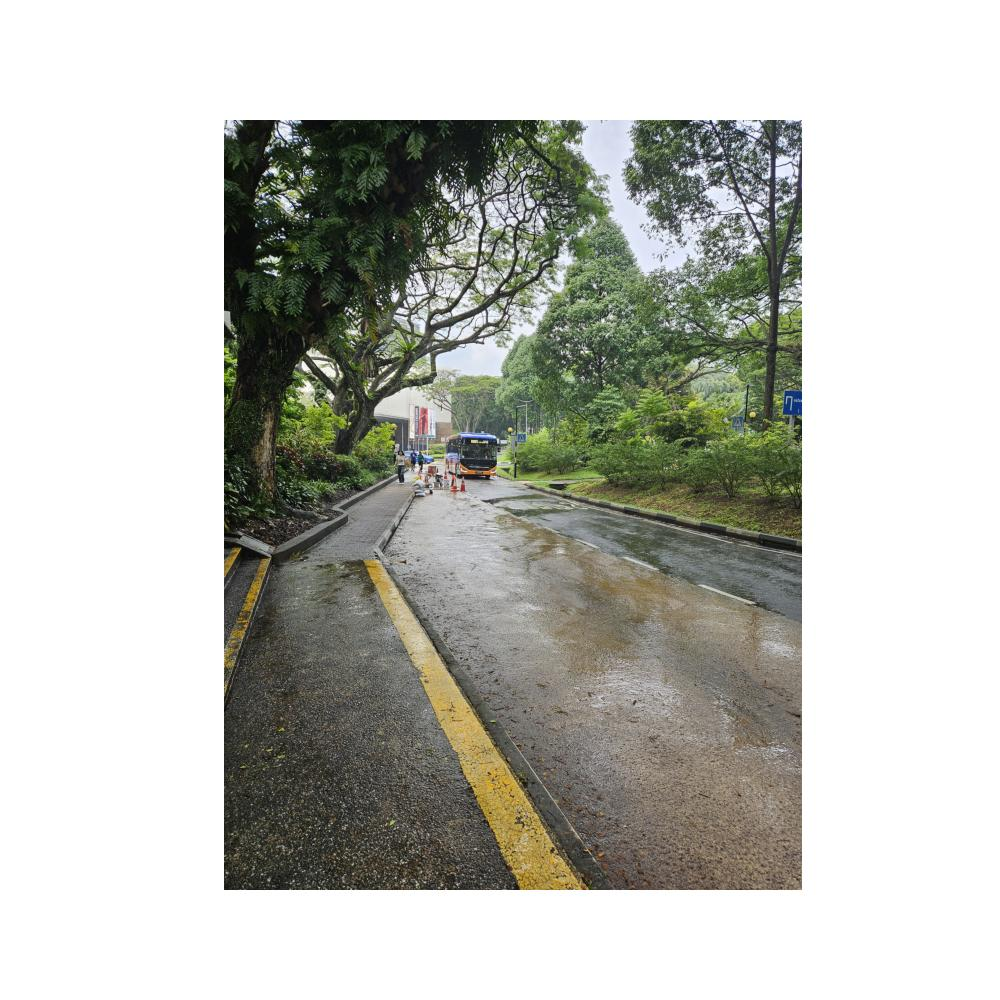bus: (443, 430, 500, 481)
